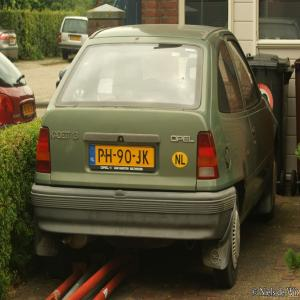Vehicle-registration-plate: (86, 138, 159, 177)
